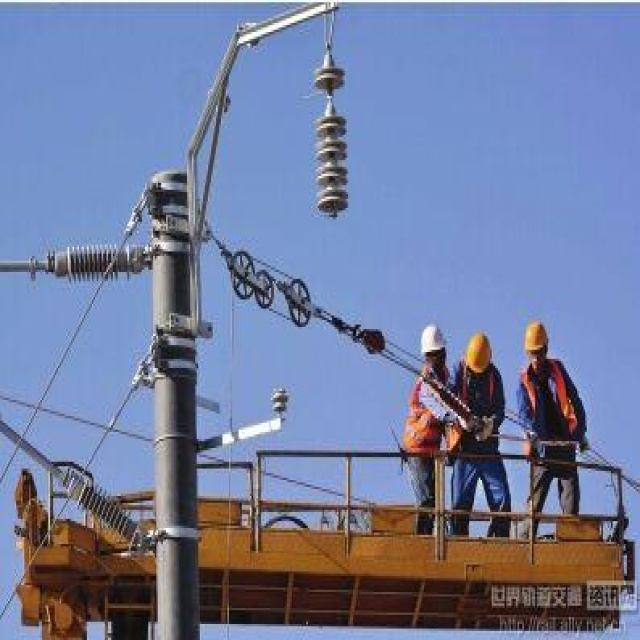Helmet: (518, 313, 556, 378), (413, 317, 451, 371), (462, 330, 496, 387)
Reflective vest: (517, 360, 582, 453), (400, 364, 454, 461)
